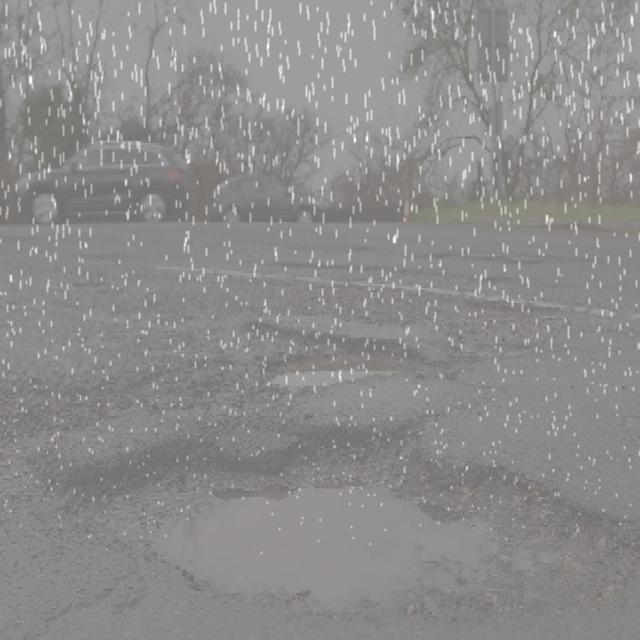Pothole: (39, 414, 640, 640), (240, 328, 428, 392), (282, 250, 410, 299)
